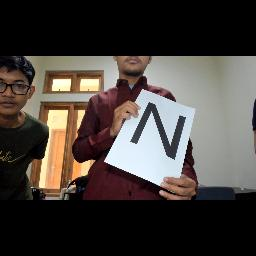n: (126, 98, 190, 166)
